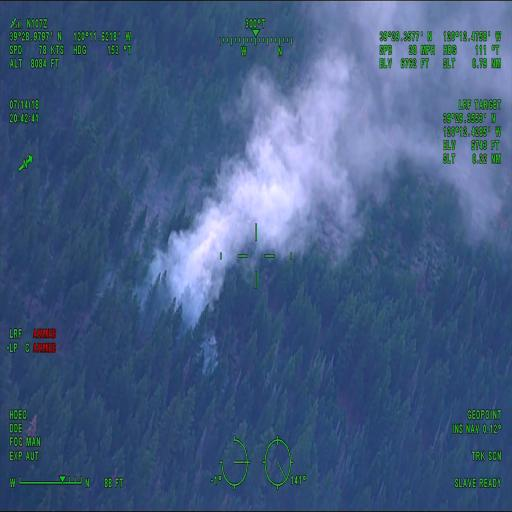smoke: (335, 11, 372, 211), (258, 77, 334, 169), (226, 176, 306, 243), (376, 82, 436, 164), (173, 244, 211, 315)
